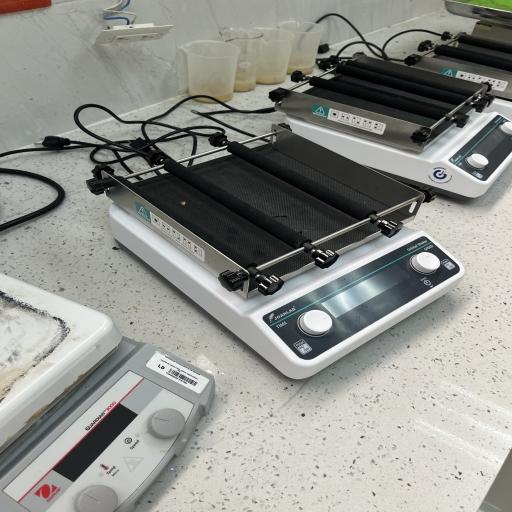Agitador_Orbital_DLAB: (87, 120, 486, 391)
